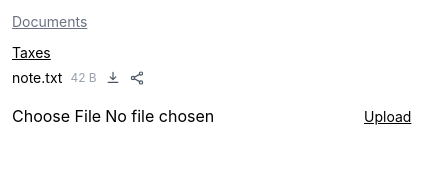
Test: FileBrowser › lists folders and files, and drills into a subfolder via breadcrumb
Click the button "Taxes": x=31, y=53 [12,43,51,63]
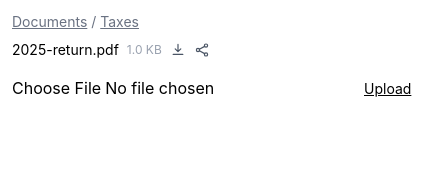
Check: the button "Documents" is shown, box [12,12,87,32]
Check: the text "2025-return.pdf" is shown, box [12,40,119,60]
